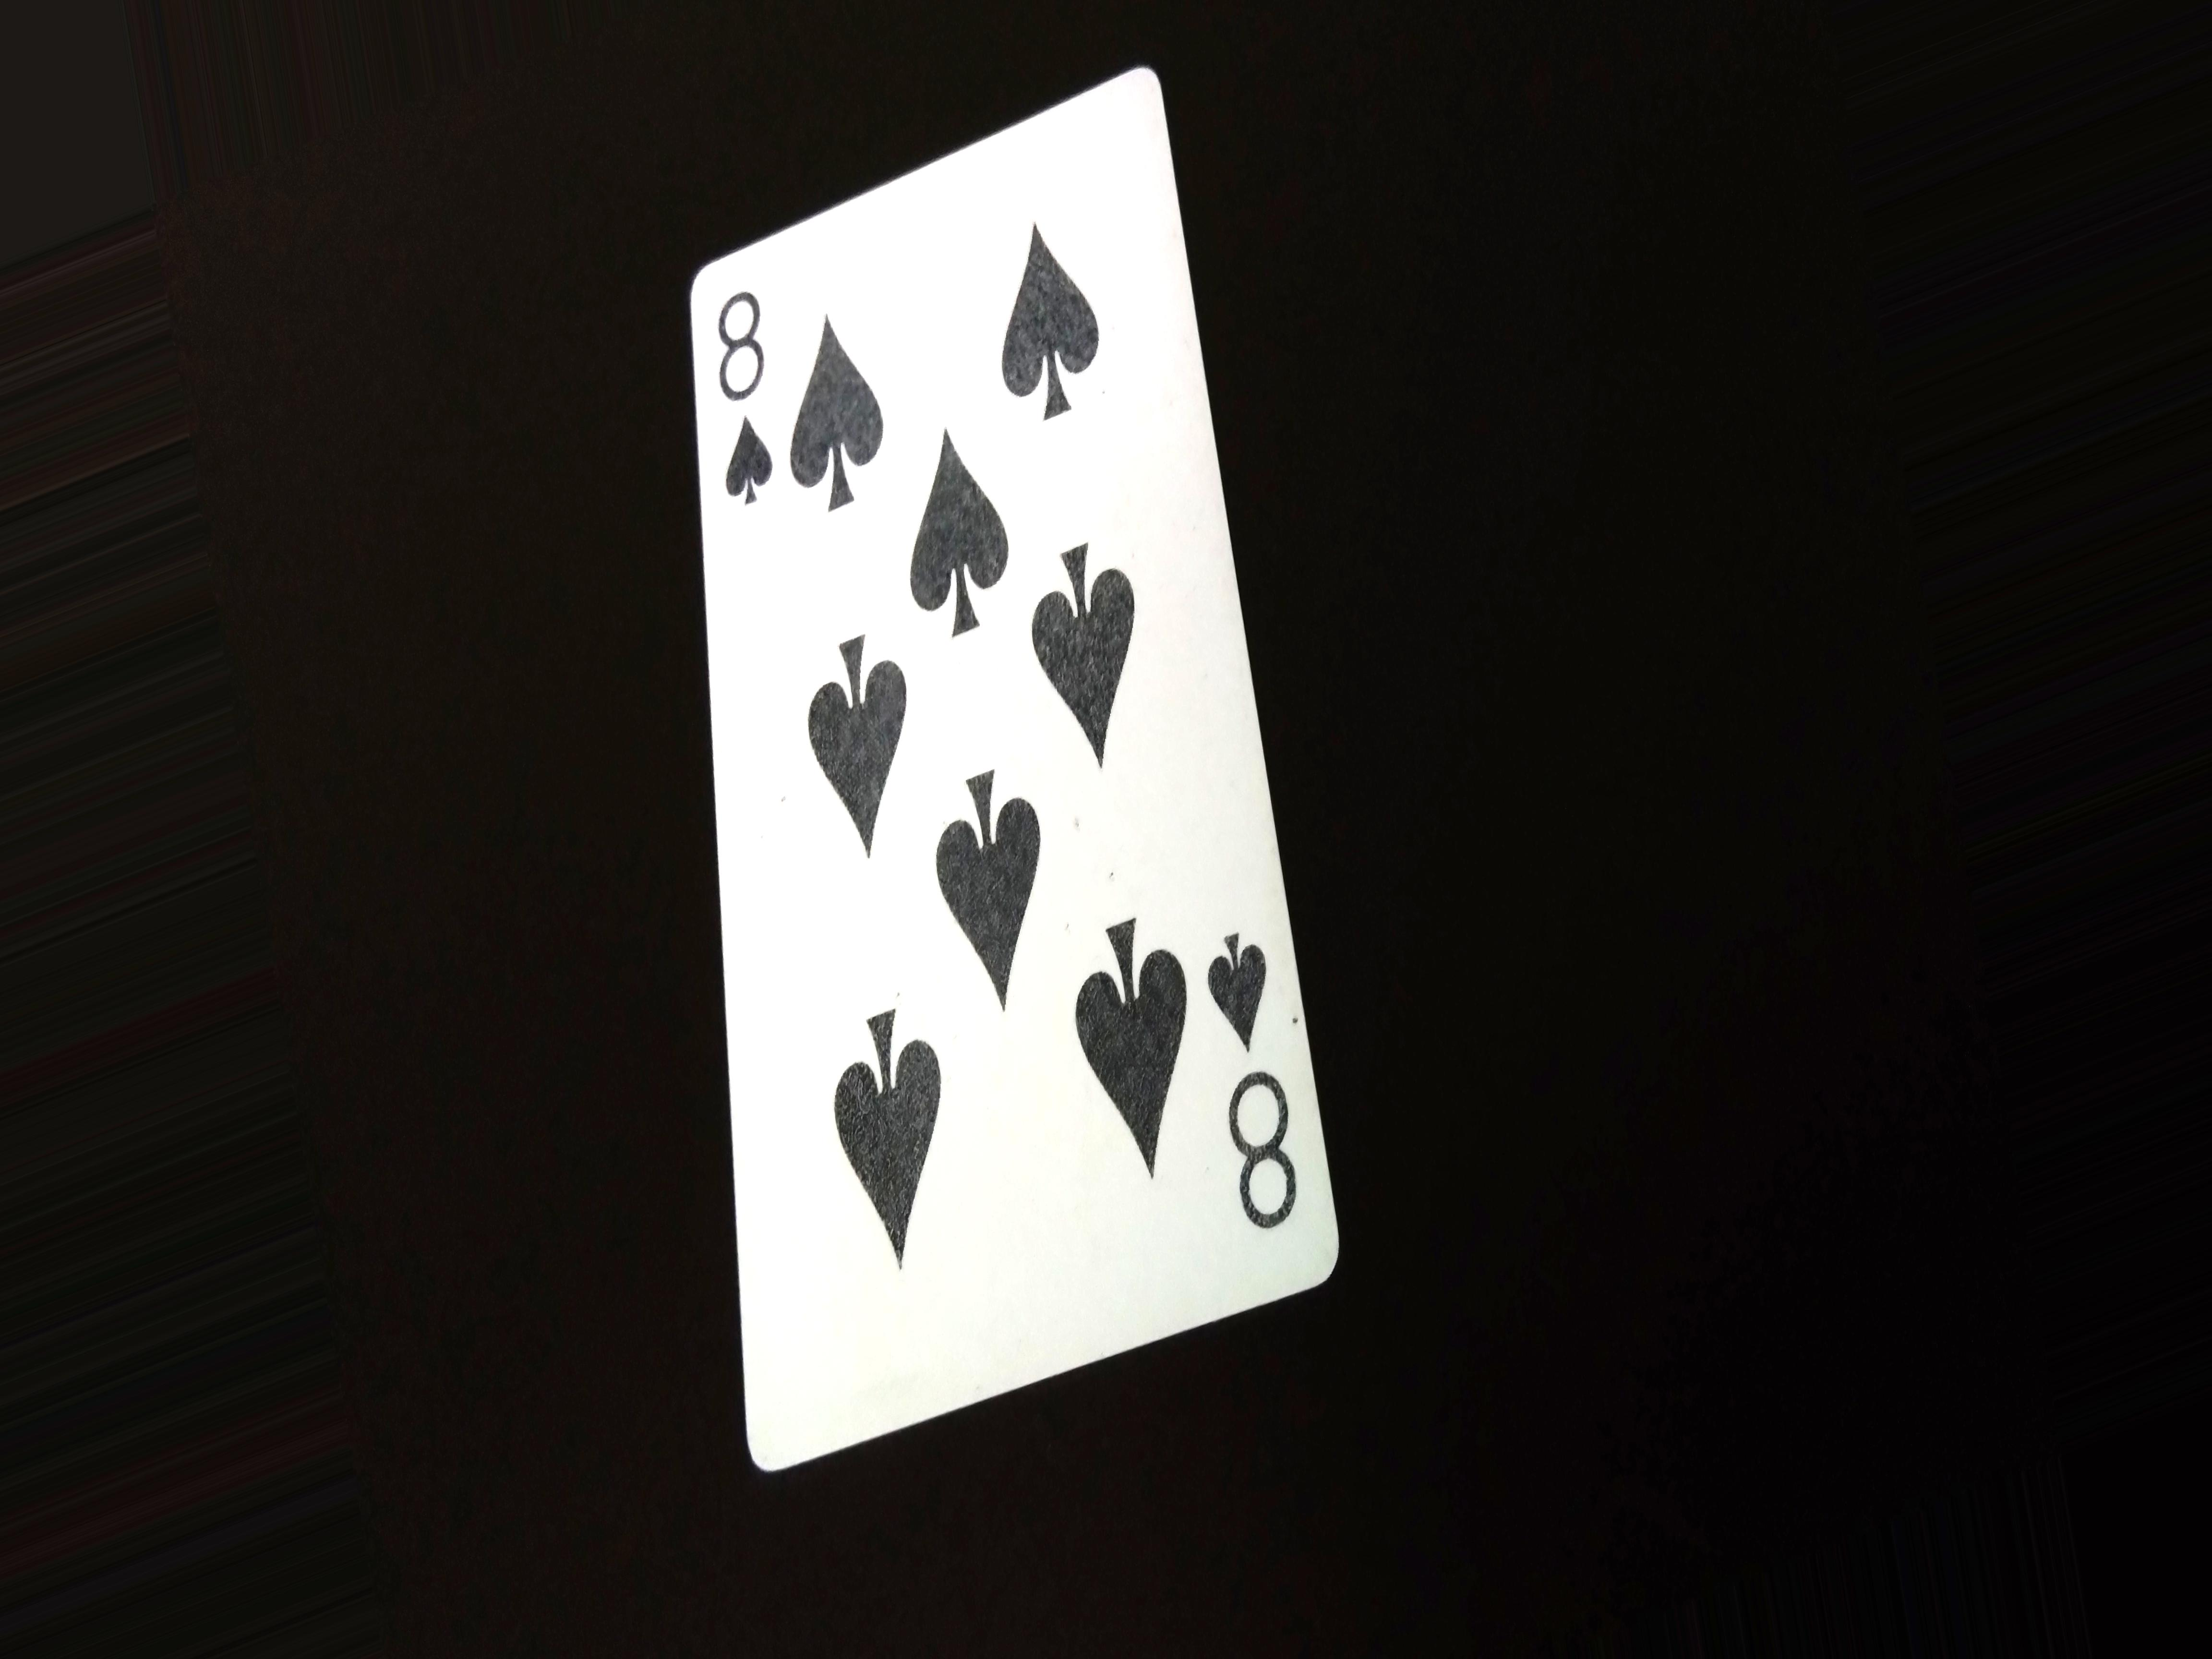8S: (711, 288, 798, 526)
